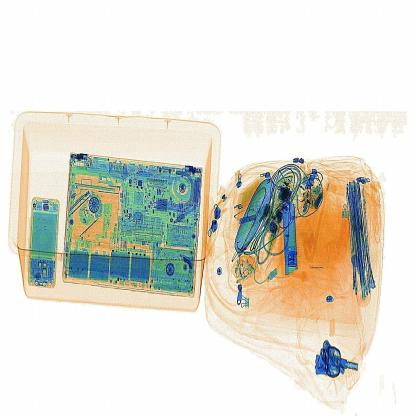pliers: (270, 190, 304, 290)
